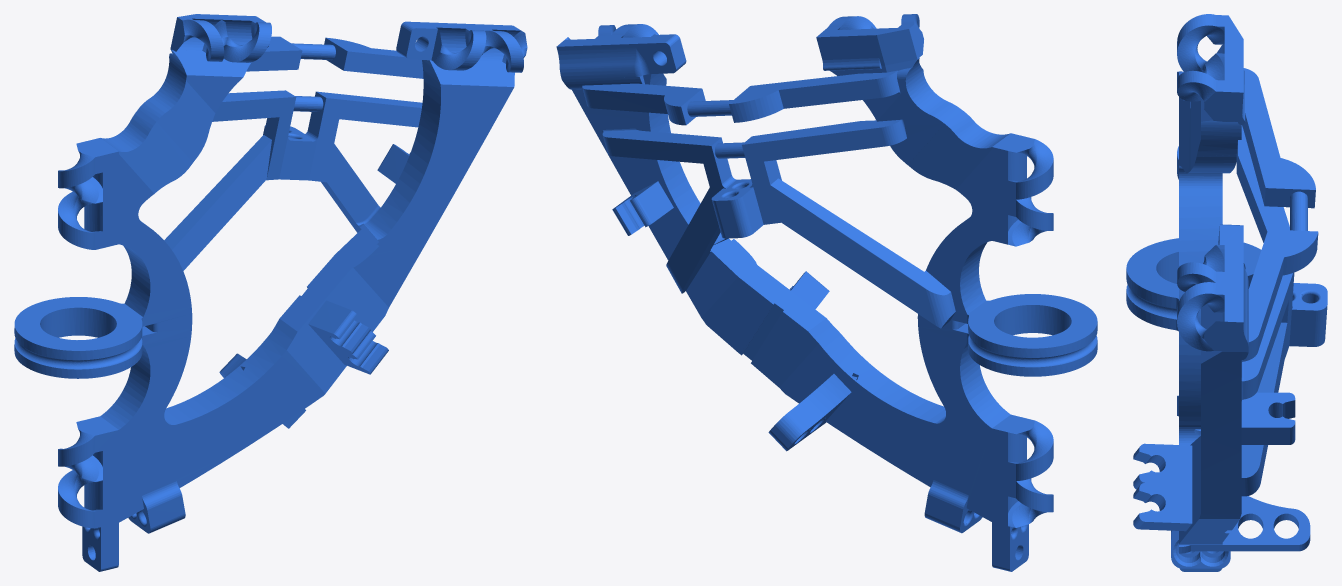
File: bras_1_color.dae
3 renders of one model, left to right at view 1: azimuth 30°, elevation 25°; view 2: azimuth 150°, elevation 25°; view 3: azimuth 270°, elevation 25°, orthographic. The views are drawn at different scales.
Parts seen in each view (by area): view 1: bras_1; view 2: bras_1; view 3: bras_1.
Part boxes in pixels (<box>): bras_1: <box>14,14,527,571</box>; bras_1: <box>556,14,1097,571</box>; bras_1: <box>1126,14,1327,571</box>.
Bounding box in the file's own units: 115 × 33.77 × 112.
